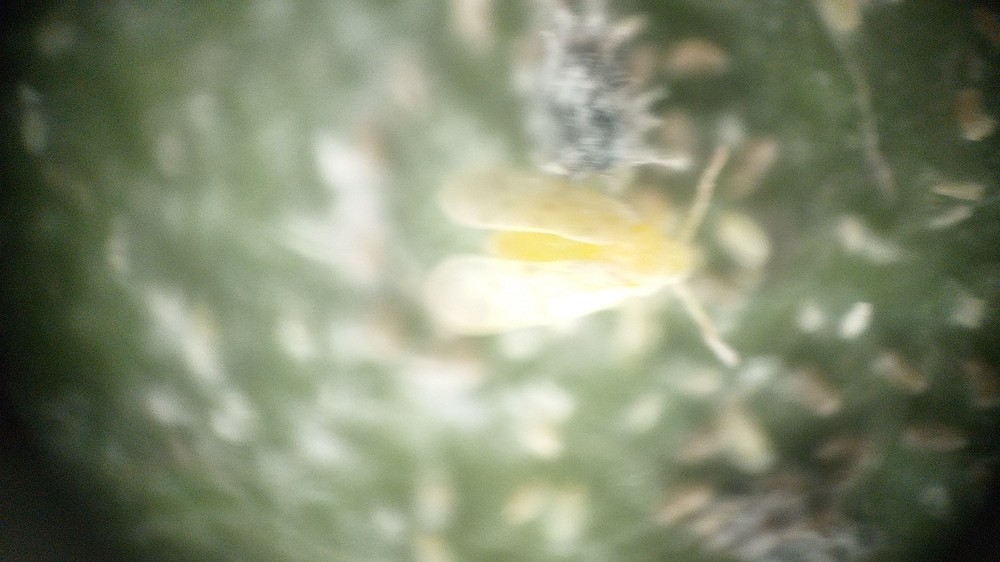Mosca Blanca: (427, 123, 775, 388)
